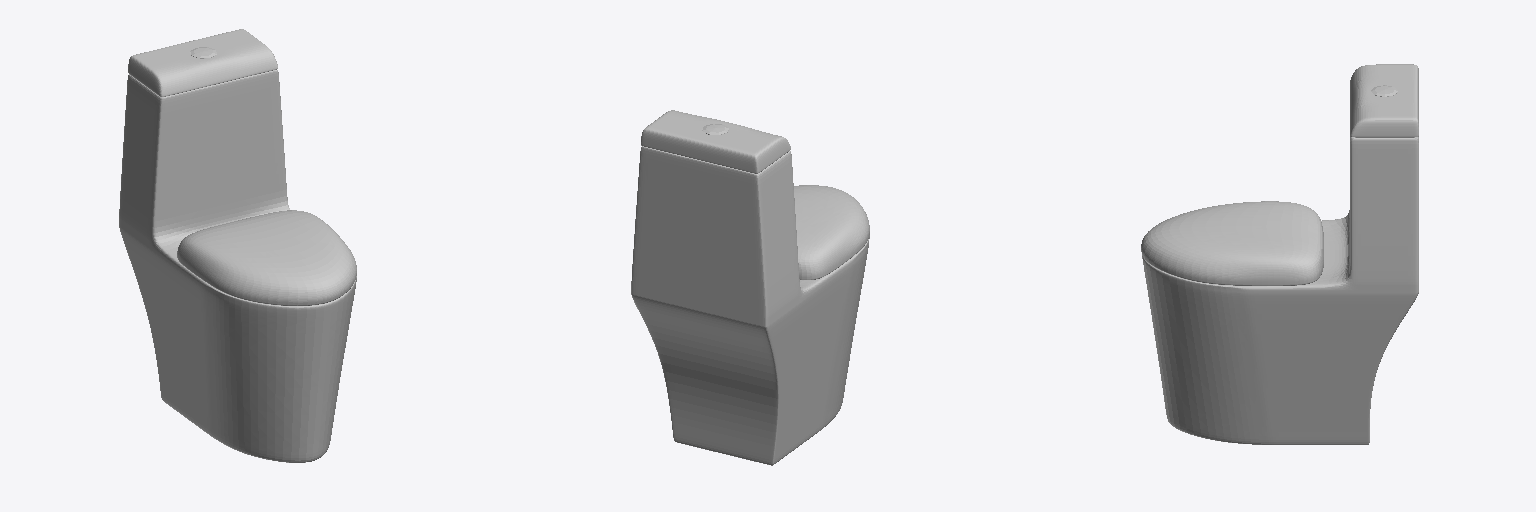
The model's file is toilet3.obj.
3 renders of one model, left to right at view 1: azimuth 30°, elevation 25°; view 2: azimuth 150°, elevation 25°; view 3: azimuth 270°, elevation 25°, orthographic.
Parts seen in each view (by area): view 1: toilet; view 2: toilet; view 3: toilet.
Part boxes in pixels (x1,y1,x2,y2): toilet: (119, 29, 356, 462); toilet: (631, 110, 869, 465); toilet: (1141, 64, 1418, 444).
Bounding box in the file's own units: 400 × 929 × 705.